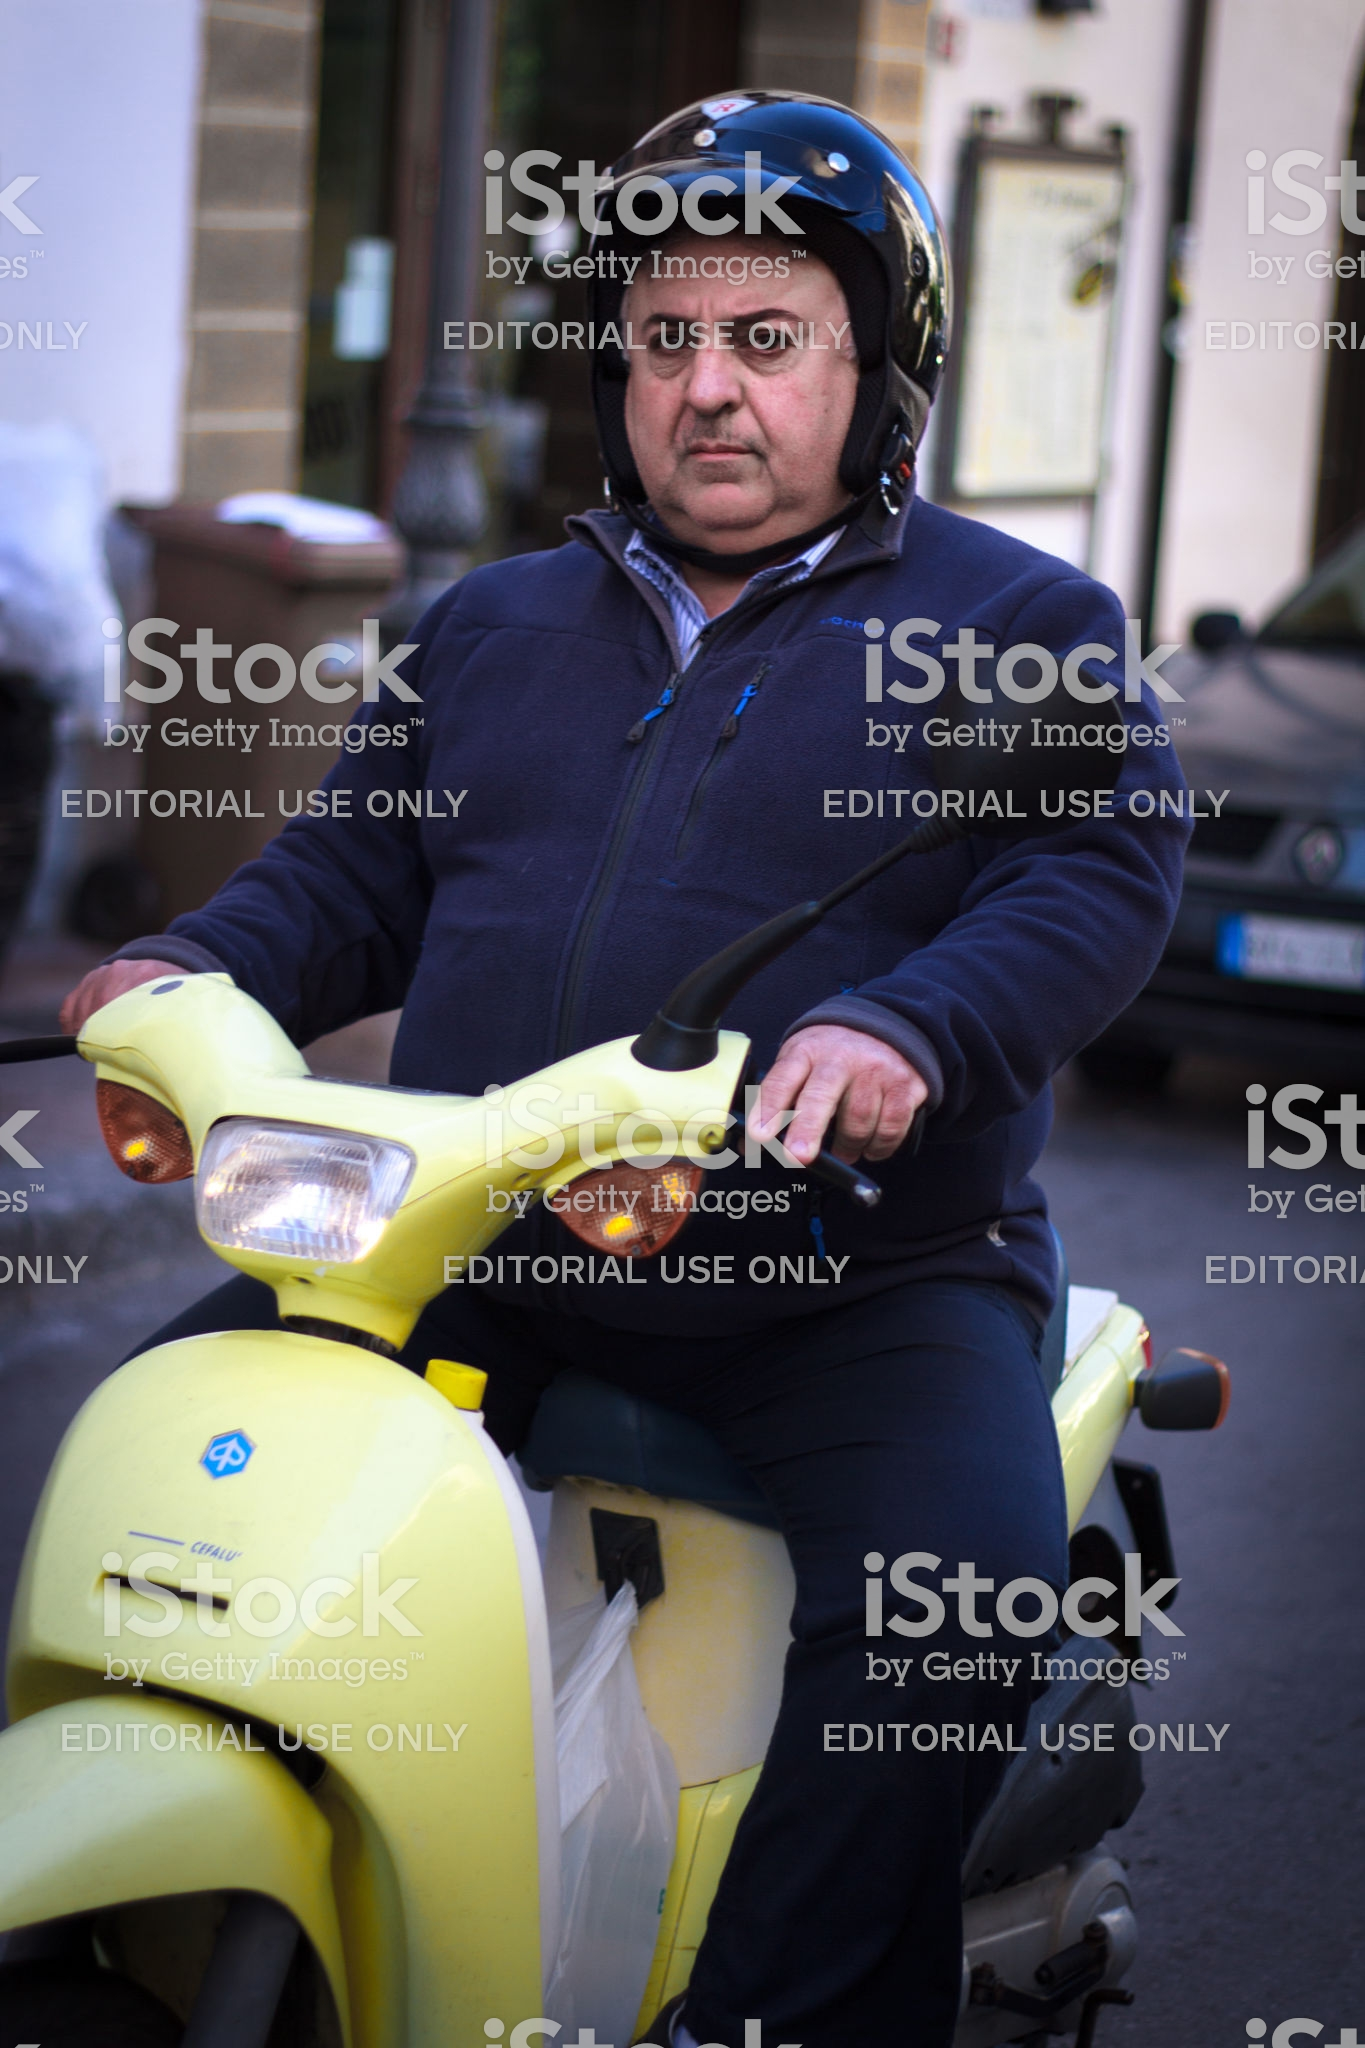helmet: (558, 94, 998, 553)
